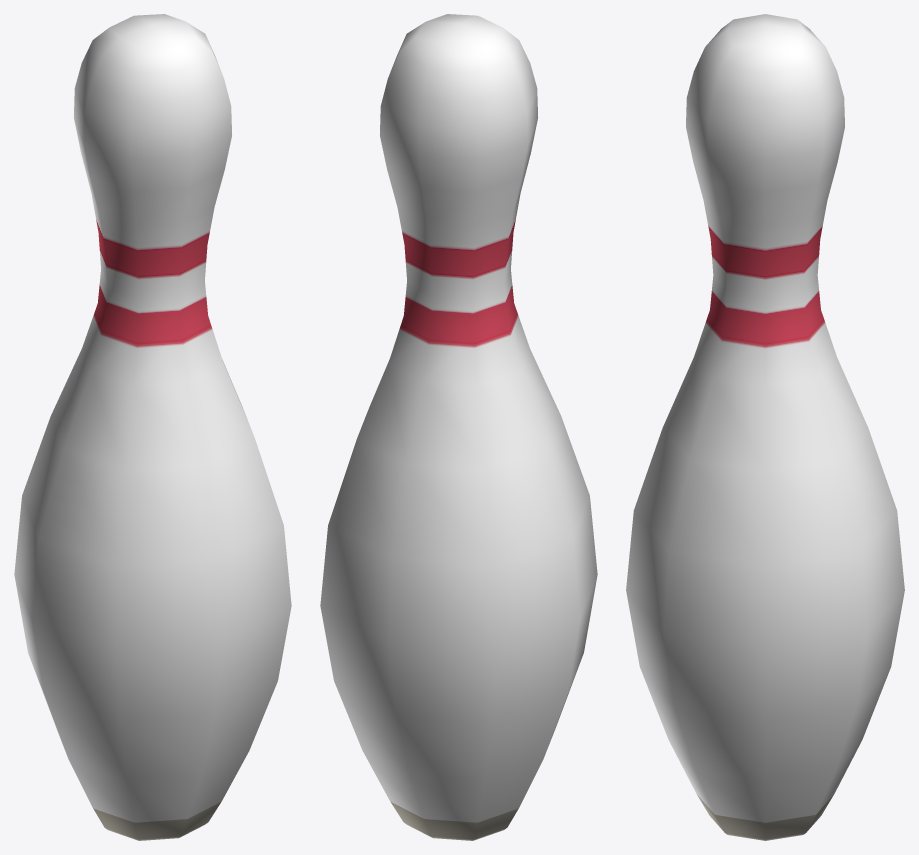
The model's file is BowlingPin.fbx.
The picture shows the model from 3 angles, left to right: view 1: azimuth 30°, elevation 25°; view 2: azimuth 150°, elevation 25°; view 3: azimuth 270°, elevation 25°; orthographic projection.
Visible parts, largest first — view 1: Keila; view 2: Keila; view 3: Keila.
Boxes of the visible parts, left/top/right/bottom form: Keila: left=14, top=14, right=291, bottom=840; Keila: left=320, top=14, right=597, bottom=840; Keila: left=626, top=14, right=904, bottom=840.
Size of the model in its own units: 12.08 by 37.98 by 12.08.
